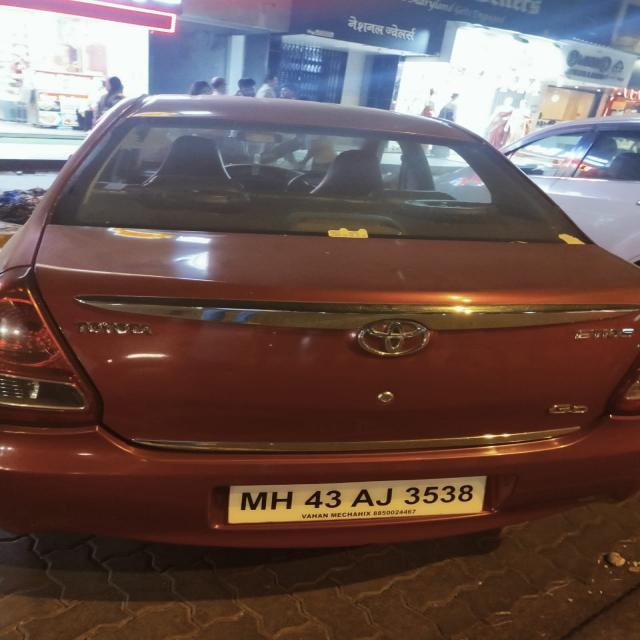Number-Plate: (229, 473, 485, 522)
